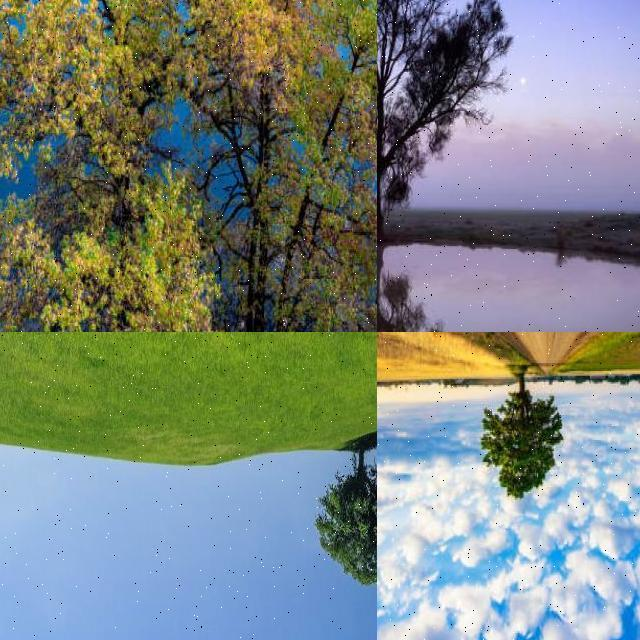tree: (0, 0, 376, 332), (377, 0, 521, 260), (475, 368, 565, 499), (312, 444, 376, 596), (0, 214, 36, 332)
